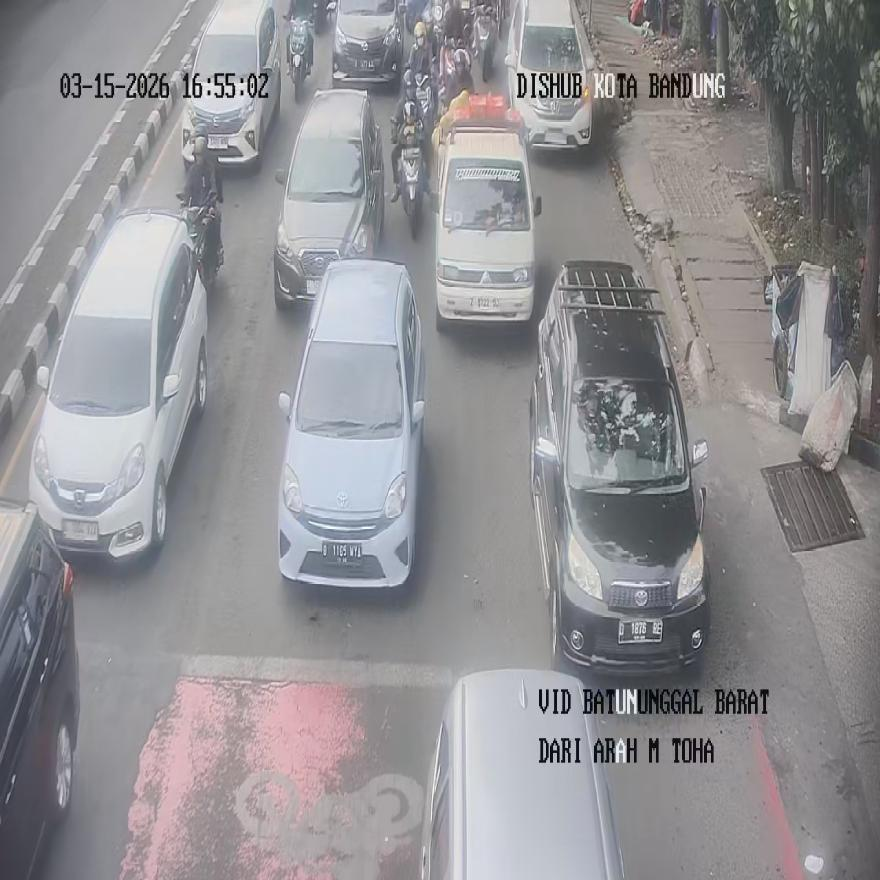Mobil: (529, 260, 710, 673), (27, 208, 208, 558), (277, 259, 426, 587), (418, 669, 625, 878), (0, 498, 79, 876), (429, 94, 540, 326), (274, 88, 384, 304), (180, 0, 281, 170), (504, 0, 596, 148), (330, 0, 404, 87)
Motor: (176, 188, 221, 288), (397, 143, 426, 238), (286, 13, 313, 102), (470, 10, 496, 83)
